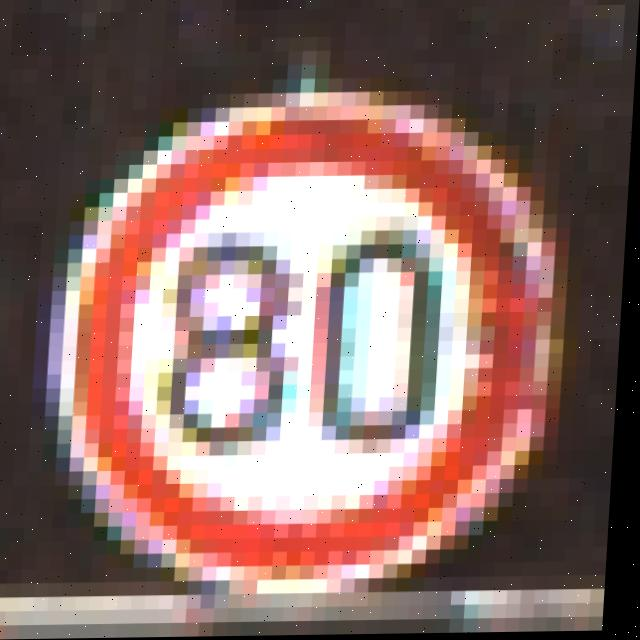speed_limit_80: (49, 89, 577, 596)
